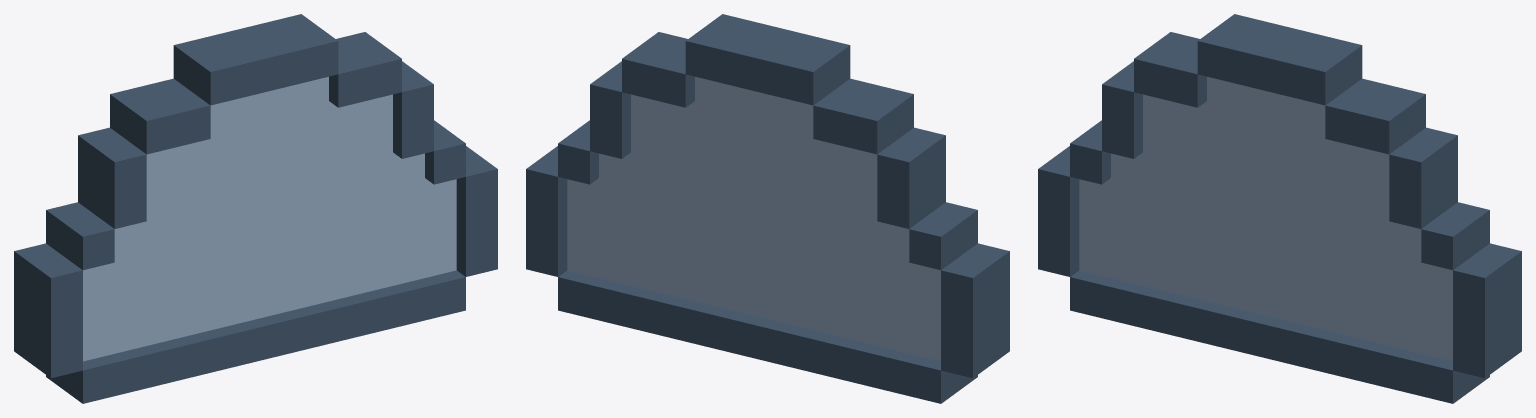
File: Rock2.fbx
3 views of the same model, side by side, from view 1: azimuth 30°, elevation 25°; view 2: azimuth 150°, elevation 25°; view 3: azimuth 330°, elevation 25° (orthographic).
Parts seen in each view (by area): view 1: generated; view 2: generated; view 3: generated.
Boxes of the visible parts, <box> form: generated: <box>14,14,497,403</box>; generated: <box>526,14,1009,403</box>; generated: <box>1038,14,1521,403</box>.
Bounding box in the file's own units: 140 × 90 × 20.
